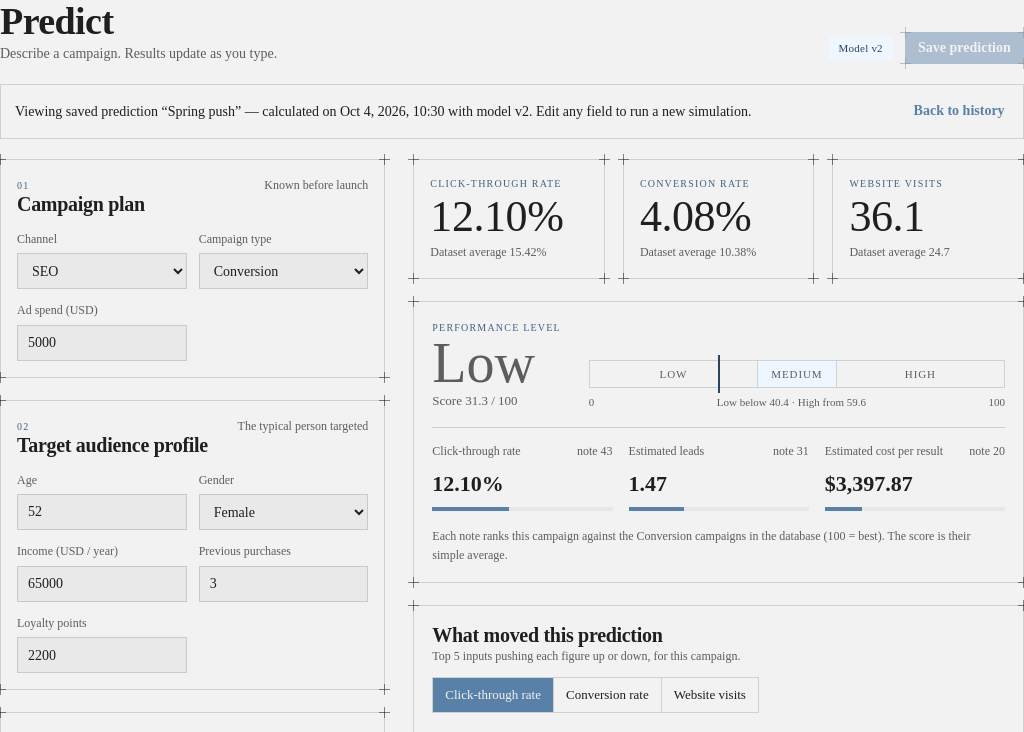
Scenario: PredictView with a saved prediction › editing a field starts a new simulation and leaves the viewing mode
The image size is (1024, 732).
Check: the element with test id "viewing-bar" is shown, box [0,84,1023,139]
Clear the field labelled "Age" at (102, 512), box [17,494,187,530]
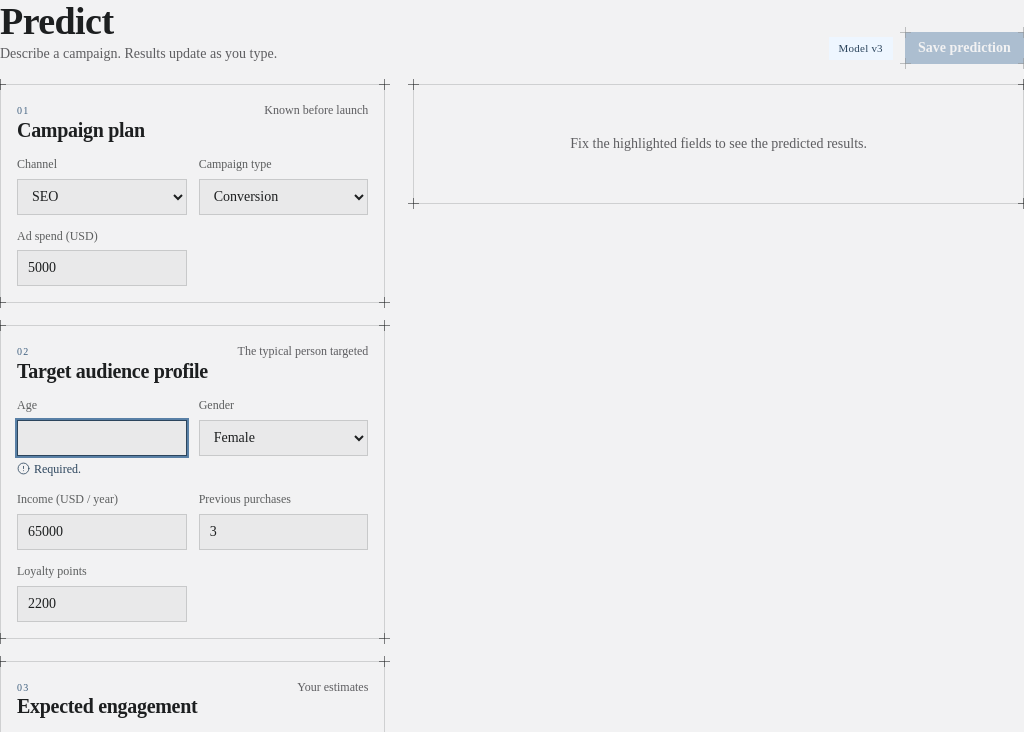
Type "53" into the field labelled "Age" at (102, 438), box [17,420,187,456]
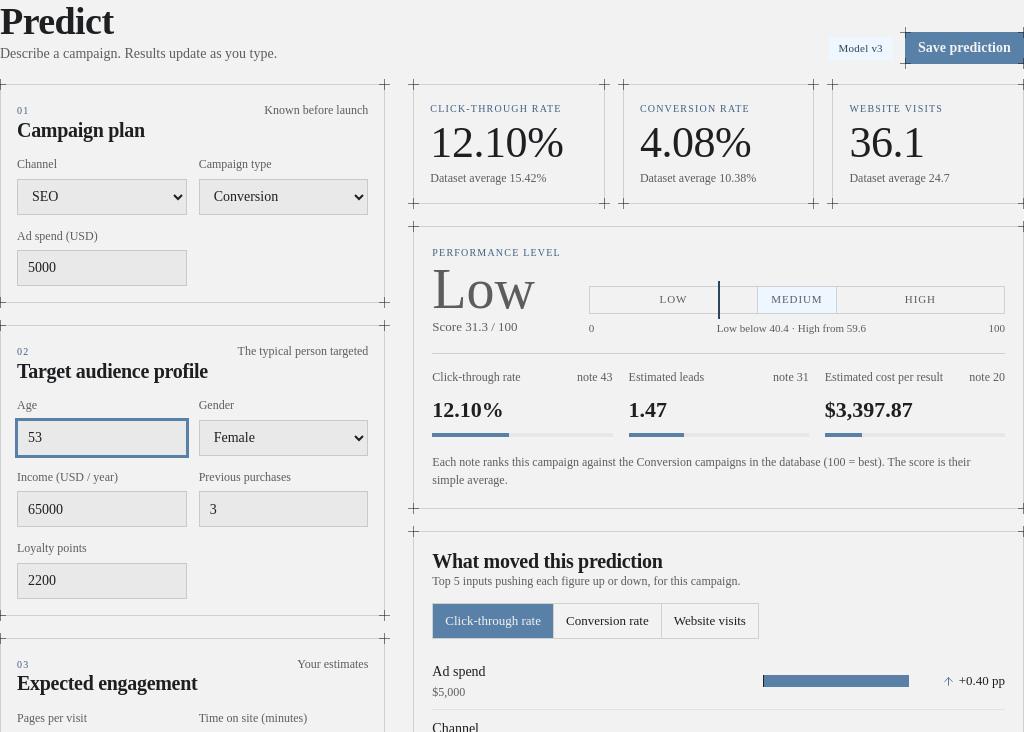
Check: the button "Save prediction" is enabled, box [905,32,1023,64]
